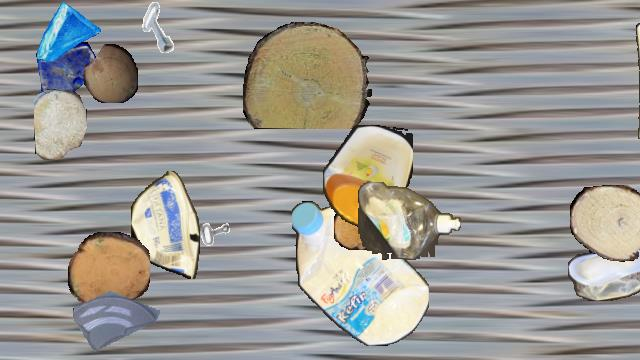glass: (73, 273, 159, 359), (34, 42, 100, 108), (35, 1, 101, 67)
metal: (181, 193, 239, 251), (134, 1, 186, 53)
plastic: (292, 200, 428, 346), (323, 125, 413, 227), (358, 182, 460, 260), (131, 171, 199, 279), (568, 240, 640, 300), (633, 1, 640, 141)
wood: (243, 22, 371, 128), (68, 232, 150, 310), (570, 185, 640, 261), (34, 89, 86, 159), (84, 44, 138, 102), (334, 204, 378, 250)
